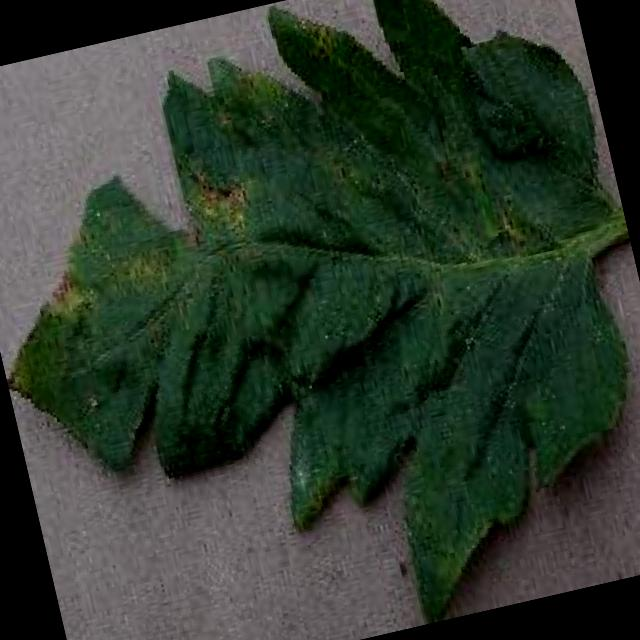bacterial spot: (7, 0, 630, 623)
